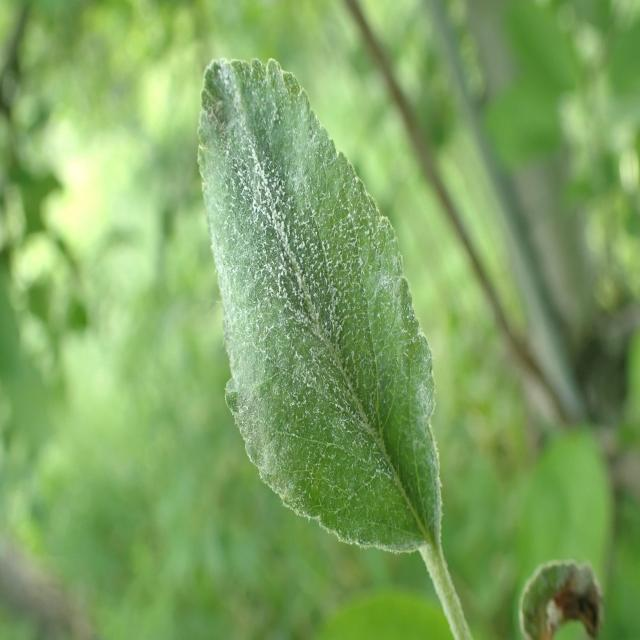Powdery_mildew: (195, 35, 468, 598)
